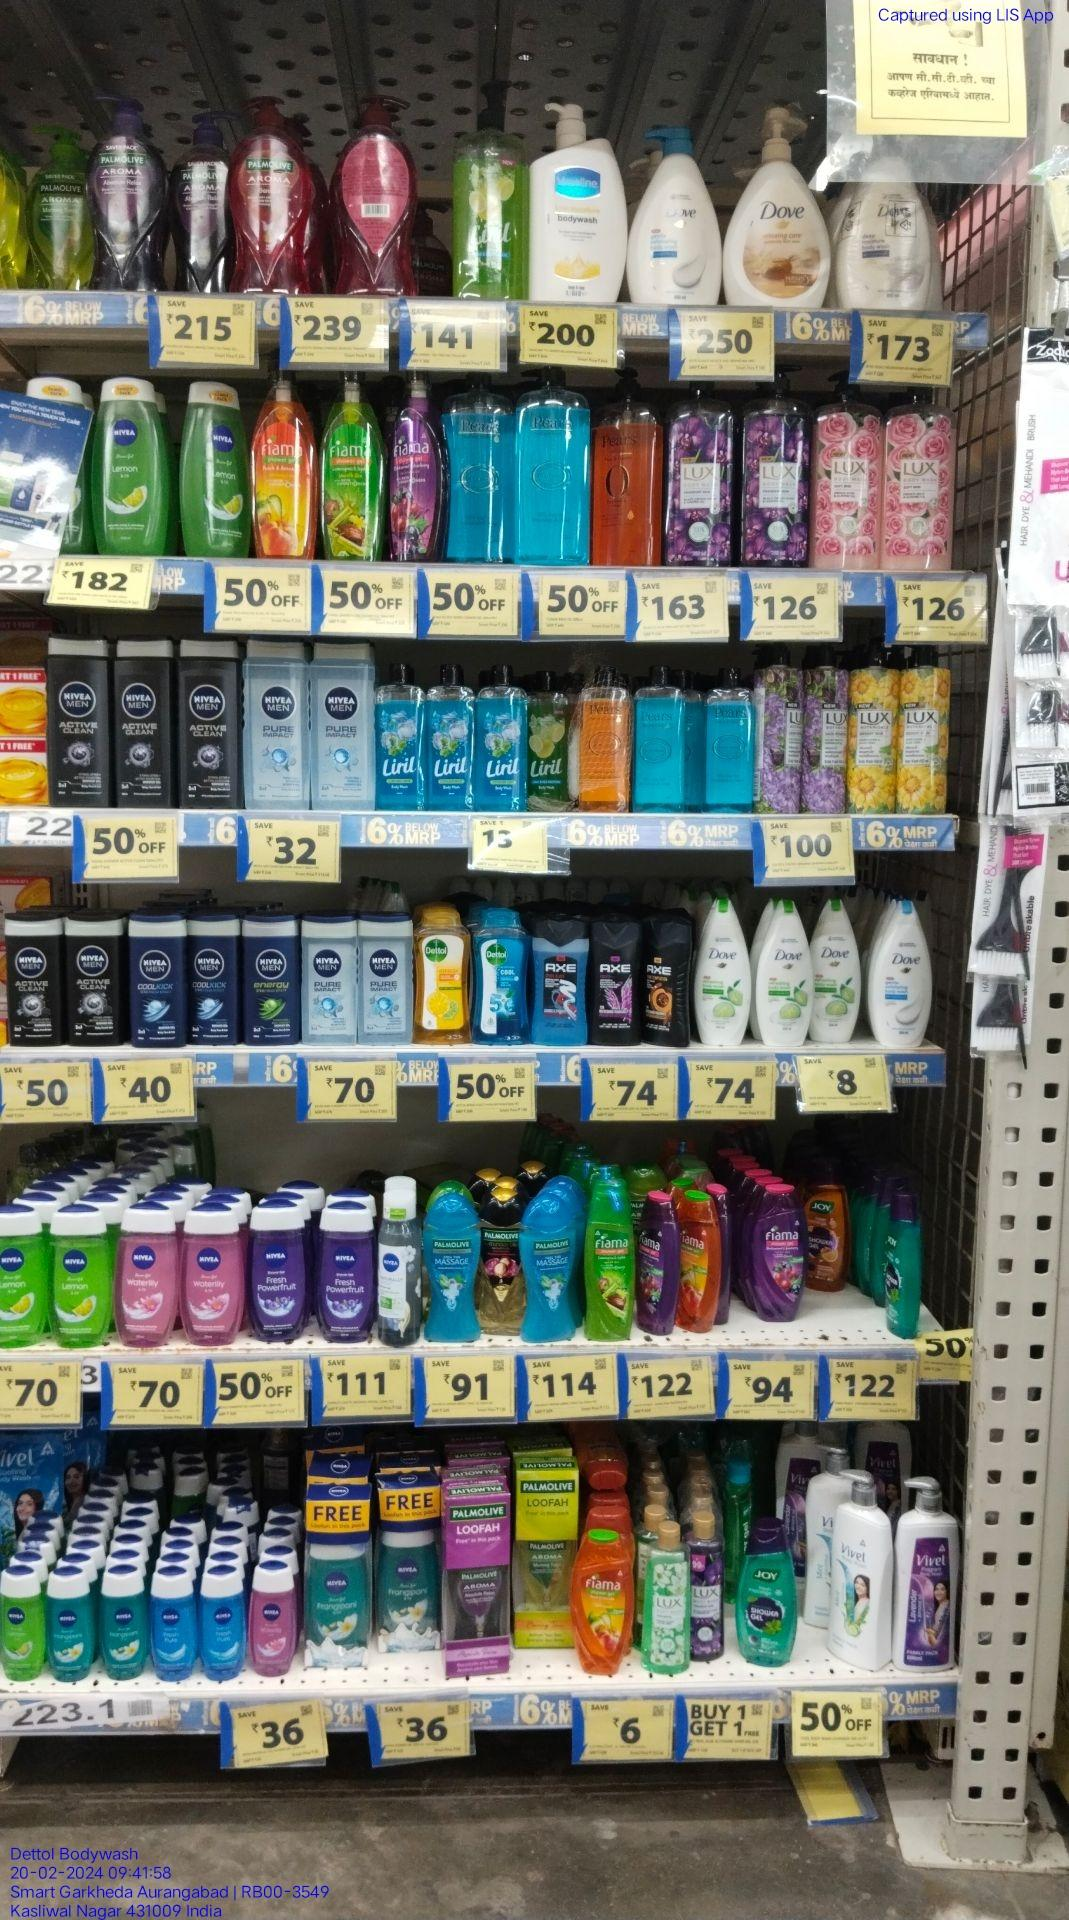Dettol_Bodywash_Cool: (474, 905, 531, 1046)
Dettol_Bodywash_Refresh: (413, 900, 470, 1044)
Dove_Gentle_Exfoliating_Body_Wash_250ML: (868, 897, 933, 1050)
Dove_Refreshing_Body_Wash_250ML: (696, 888, 752, 1048), (756, 891, 812, 1046), (816, 891, 861, 1044)
Fiama_Shower_Gel_Lemongrass_and_Jojoba_250ML: (585, 1182, 635, 1341)
Fiama_Shower_Gel_Peach_and_Avocado_250ML: (571, 1528, 633, 1678), (679, 1192, 719, 1334)
Joy_Shower_Gel_Mandarin_and_Lemongrass_250ML: (808, 1163, 852, 1291)
Joy_Shower_Gel_Mint_and_Eucalyptus_250ML: (735, 1517, 795, 1662), (885, 1191, 919, 1340)
Liril_Cooling_Mint_Body_Wash_250ML: (475, 665, 529, 809), (427, 658, 473, 811), (375, 667, 421, 805)
Lux_Black_Orchid_Scent_and_Juniper_Oil_Body_Wash_245ML: (689, 1512, 725, 1662)
Lux_Body_Wash_Skin_Detox_Freesia_Scent_and_Alove_Vera_245ML: (644, 1521, 686, 1673)
Nivea_Shower_Gel_Frangipani_and_Oil_250ML: (100, 1569, 149, 1675), (46, 1575, 93, 1683)
Nivea_Shower_Gel_Fresh_Powerfruit_250ML: (248, 1200, 308, 1341), (315, 1205, 375, 1345)
Nivea_Shower_Gel_Lemon_and_Oil_250ML: (95, 375, 171, 557), (183, 380, 253, 558), (53, 1208, 115, 1346), (1, 1203, 47, 1352), (0, 1563, 43, 1683)
Nivea_Shower_Gel_Waterlily_and_Oil_250ML: (182, 1205, 244, 1345), (118, 1207, 178, 1349), (251, 1565, 295, 1675)
Palmolive_Aroma_Moments_Feel_The_Massage_Shower_Gel_250ML: (424, 1194, 483, 1342), (524, 1192, 573, 1345)
Palmolive_Luminous_Oils_Invigorating_Macadamia_Oil_With_Peony_250ML: (486, 1187, 520, 1337)
Pears_Pure_Glycerin_and_Mint_Extracts_Body_Wash_250ML: (633, 662, 687, 816), (700, 670, 750, 807)
